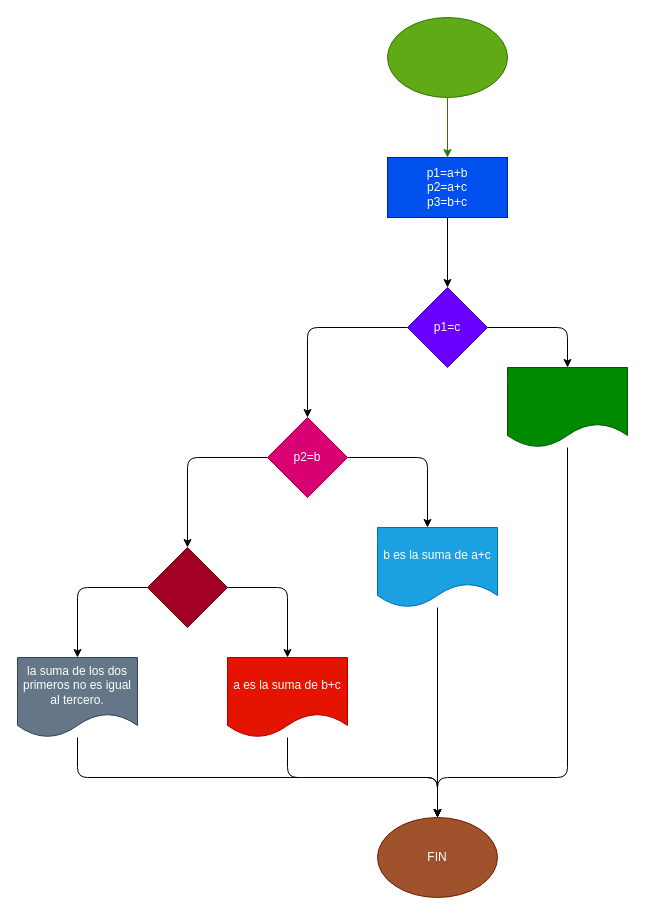
This 645x915 diagram has some shape labels left out. Here are the shapes that lost their labels. From the top down, the centre of each, then its label:
At (x=447, y=57): "INICIO".
At (x=567, y=407): "c es la suma de a+b".
At (x=187, y=587): "p3=a".
